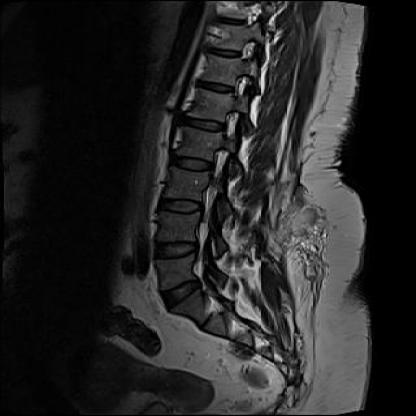Disc Bulgerotation: (156, 278, 211, 307)
